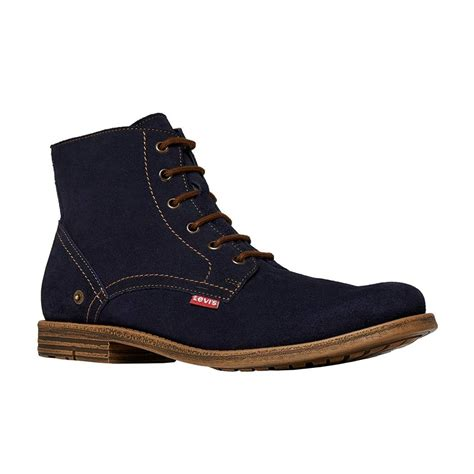gamuza: (40, 110, 426, 353)
